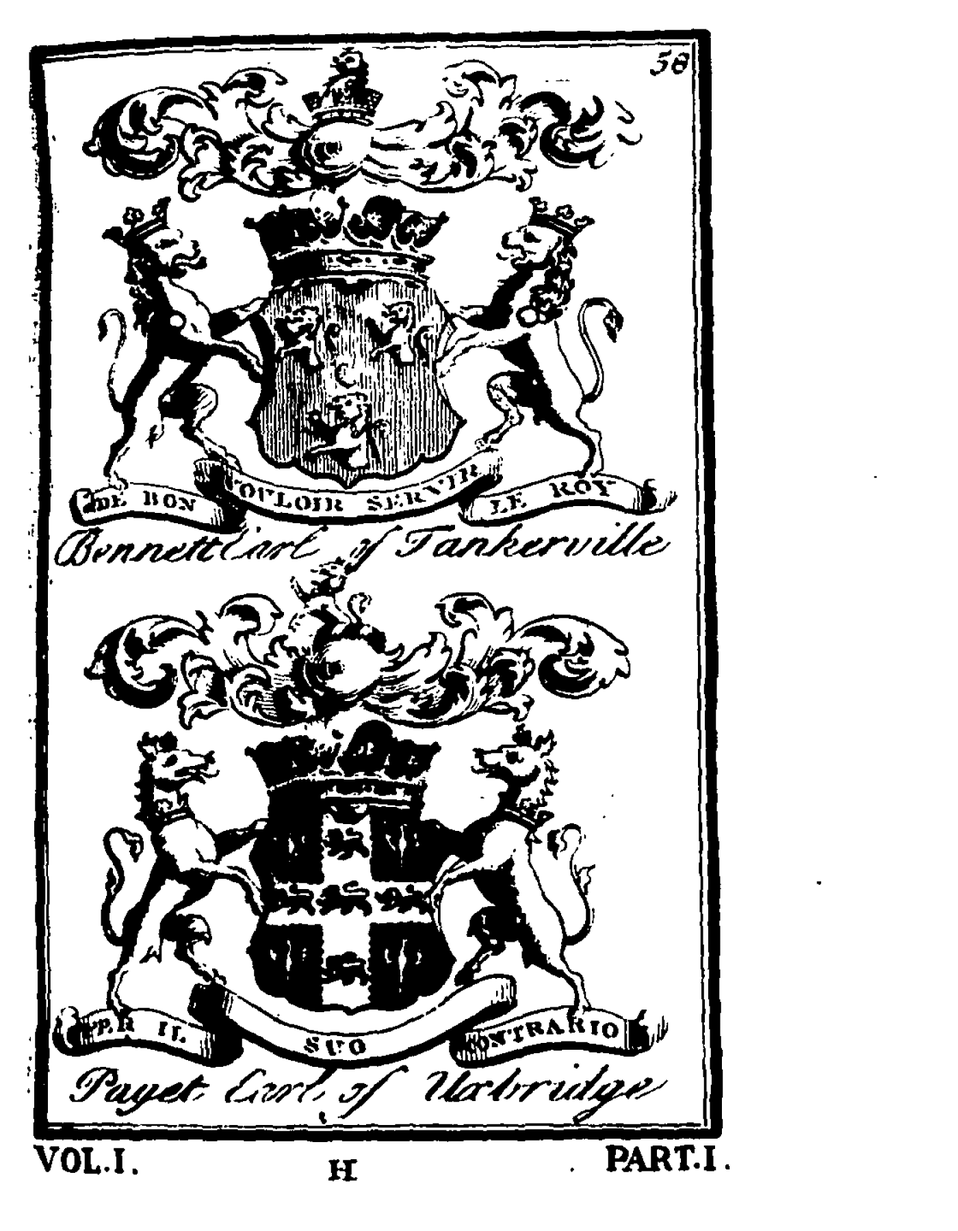coat_of_arms: (53, 563, 664, 1116), (42, 61, 682, 564)
